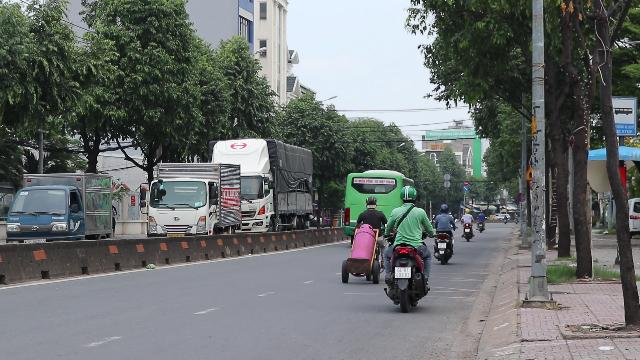helmet: (399, 184, 417, 204)
licenseplate: (394, 267, 410, 277)
motorcyclist: (382, 185, 434, 311)
